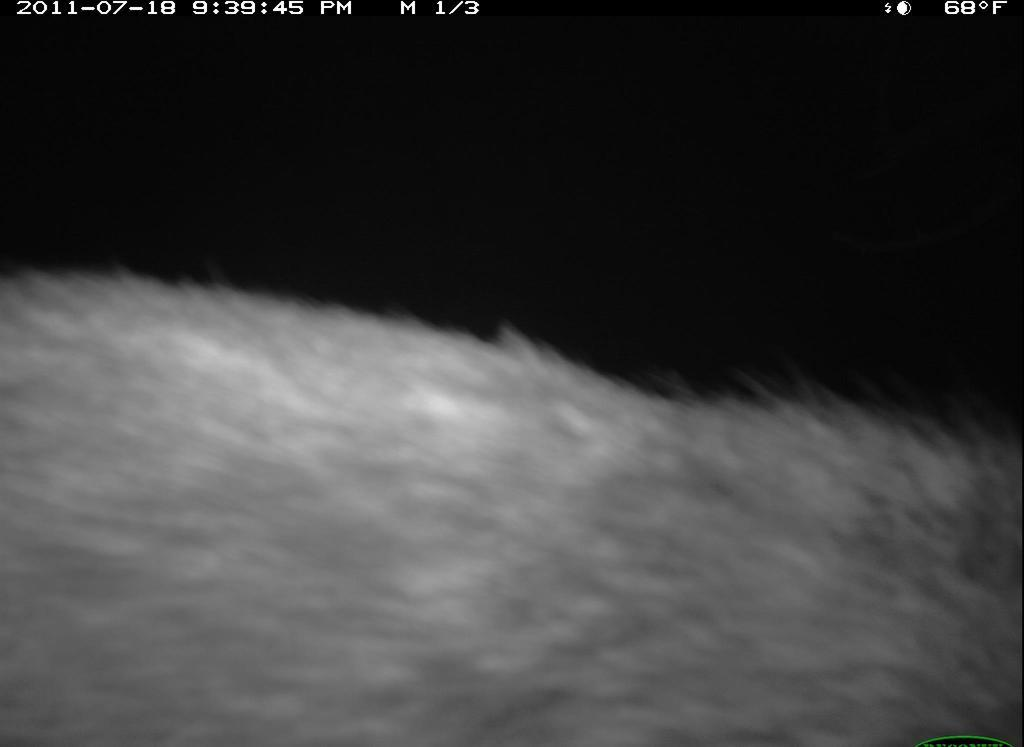raccoon: (2, 245, 1021, 747)
